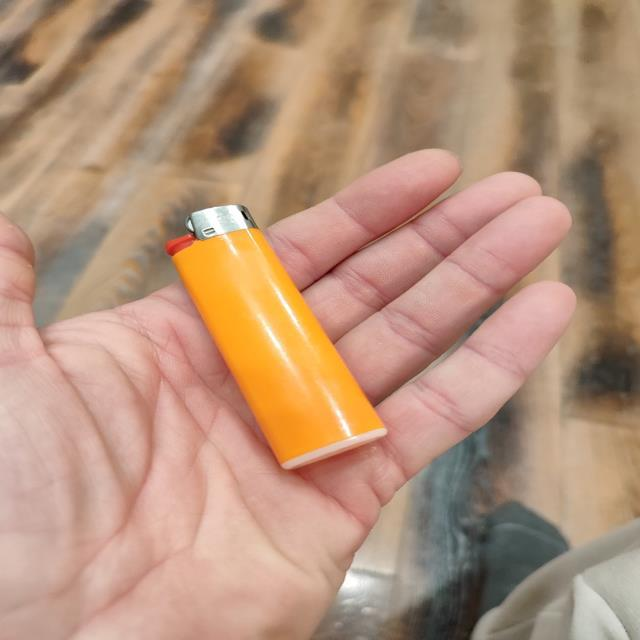lighter: (166, 204, 385, 469)
